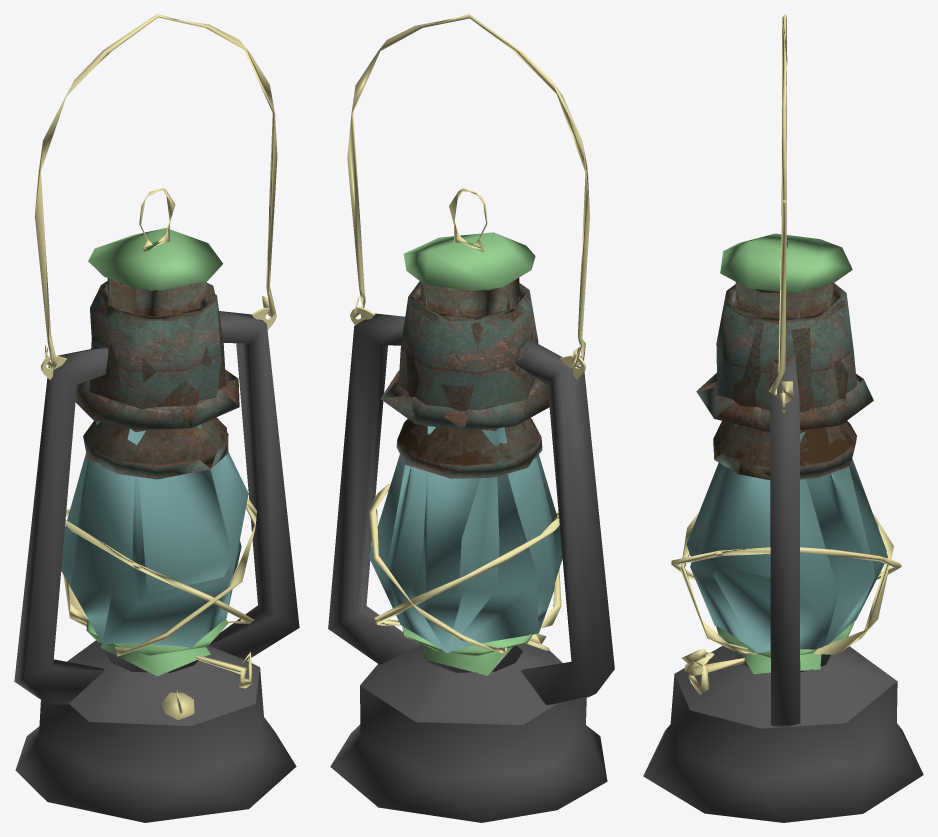
File: Lampara Low Poly.fbx
The picture shows the model from 3 angles, left to right: view 1: azimuth 30°, elevation 25°; view 2: azimuth 150°, elevation 25°; view 3: azimuth 270°, elevation 25°; orthographic projection.
Parts seen in each view (by area): view 1: Fuel tank 1, Vent cap2, Glass, Vent cap1, Top_pipe, Cap, Handle1, Hold tube1.001, Fuel tank 2, Hold tube1, Burner2, Ftank cap (+3 smaller); view 2: Fuel tank 1, Vent cap2, Glass, Vent cap1, Top_pipe, Cap, Handle1, Hold tube1.001, Hold tube1, Fuel tank 2, Burner2, Handle2 (+1 smaller); view 3: Fuel tank 1, Glass, Vent cap1, Vent cap2, Top_pipe, Cap, Handle1, Hold tube1, Hold tube1.001, Fuel tank 2, Knob, Burner2.
Boxes of the visible parts, bbox=[...] form: Fuel tank 1: bbox=[15, 640, 296, 822]; Vent cap2: bbox=[14, 311, 299, 704]; Glass: bbox=[61, 420, 248, 648]; Vent cap1: bbox=[75, 281, 239, 429]; Top_pipe: bbox=[83, 278, 228, 479]; Cap: bbox=[88, 228, 222, 290]; Handle1: bbox=[34, 14, 277, 369]; Hold tube1.001: bbox=[63, 498, 256, 656]; Fuel tank 2: bbox=[100, 644, 210, 676]; Hold tube1: bbox=[65, 509, 254, 623]; Burner2: bbox=[86, 619, 228, 655]; Ftank cap: bbox=[161, 689, 194, 720]; Fuel tank 1: bbox=[330, 642, 607, 822]; Vent cap2: bbox=[328, 313, 614, 704]; Glass: bbox=[368, 426, 562, 652]; Vent cap1: bbox=[380, 281, 549, 430]; Top_pipe: bbox=[396, 278, 542, 478]; Cap: bbox=[403, 232, 535, 290]; Handle1: bbox=[347, 14, 589, 367]; Hold tube1.001: bbox=[368, 483, 561, 654]; Hold tube1: bbox=[374, 511, 559, 625]; Fuel tank 2: bbox=[422, 647, 512, 675]; Burner2: bbox=[402, 626, 532, 656]; Handle2: bbox=[449, 188, 487, 251]; Fuel tank 1: bbox=[643, 645, 923, 822]; Glass: bbox=[686, 424, 887, 652]; Vent cap1: bbox=[696, 283, 873, 432]; Vent cap2: bbox=[770, 355, 800, 727]; Top_pipe: bbox=[713, 282, 856, 480]; Cap: bbox=[720, 233, 852, 293]; Handle1: bbox=[769, 14, 793, 403]; Hold tube1: bbox=[680, 512, 893, 654]; Hold tube1.001: bbox=[671, 547, 901, 580]; Fuel tank 2: bbox=[741, 653, 821, 673]; Knob: bbox=[688, 658, 744, 694]; Burner2: bbox=[716, 620, 855, 657].
Bounding box in the file's own units: 170 × 444 × 151.
